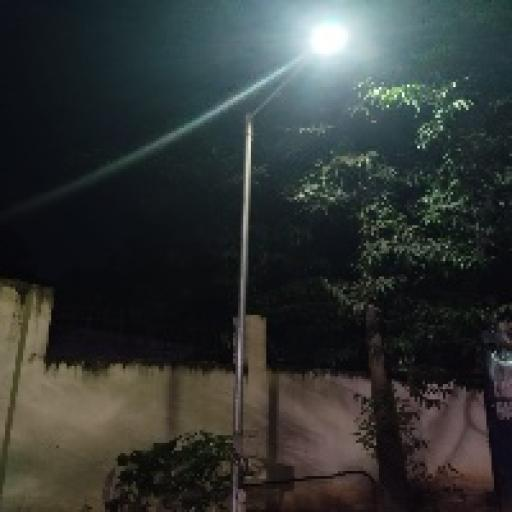Working: (298, 16, 363, 72)
